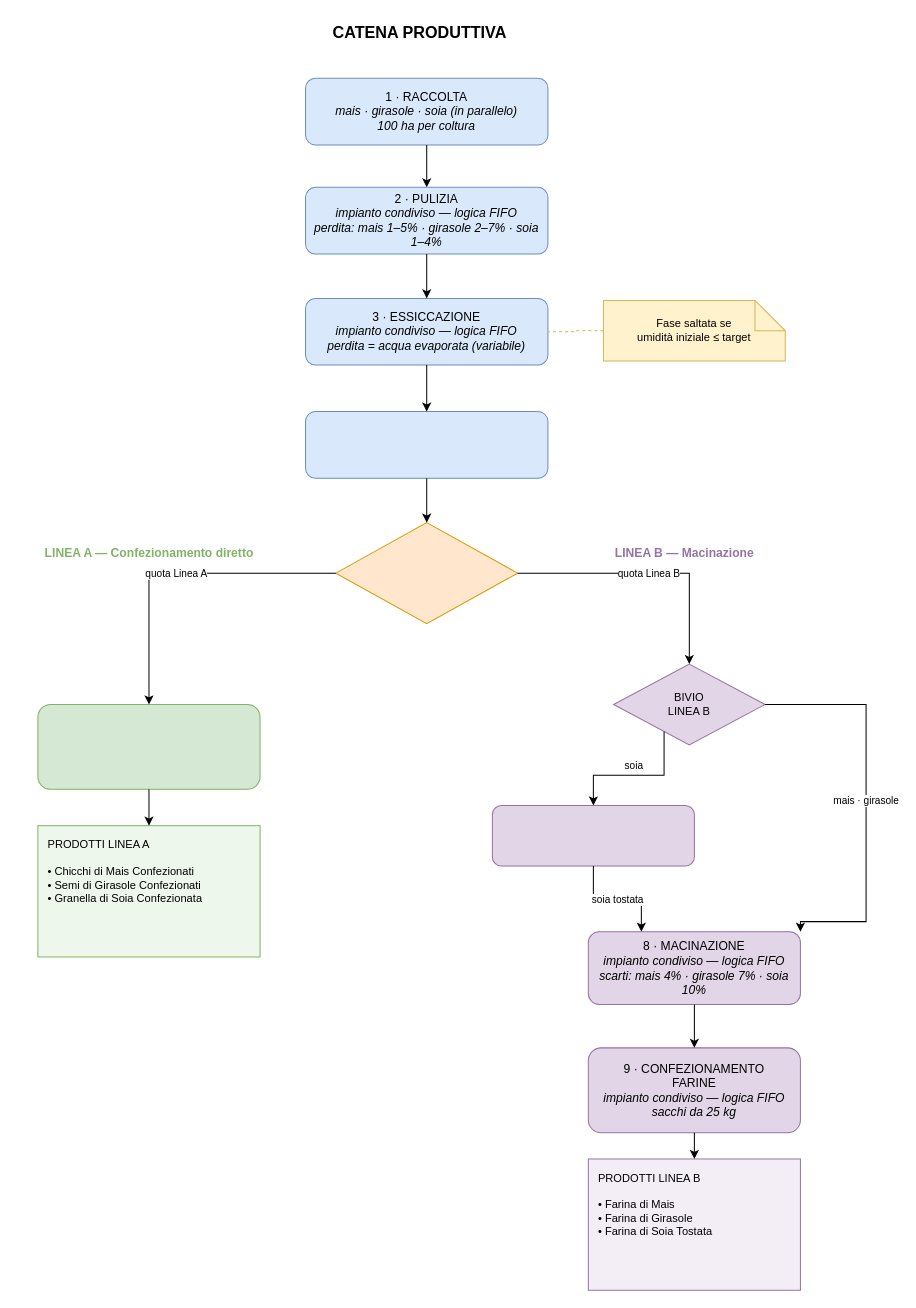
This 916x1308 diagram has some shape labels left out. The centre of each missing label's shape, as x and y in pixels:
"4 · STOCCAGGIO silos dedicati per coltura — nessuna coda perdita fissa 1%" goes at point 426,444.
"5 · DIVISIONE LINEE A / B" goes at point 426,573.
"6 · CONFEZIONAMENTO DIRETTO impianto condiviso — logica FIFO sacchi da 25 kg" goes at point 148,746.
"7 · TOSTATURA solo soia — perdita 1,5%" goes at point 592,835.
